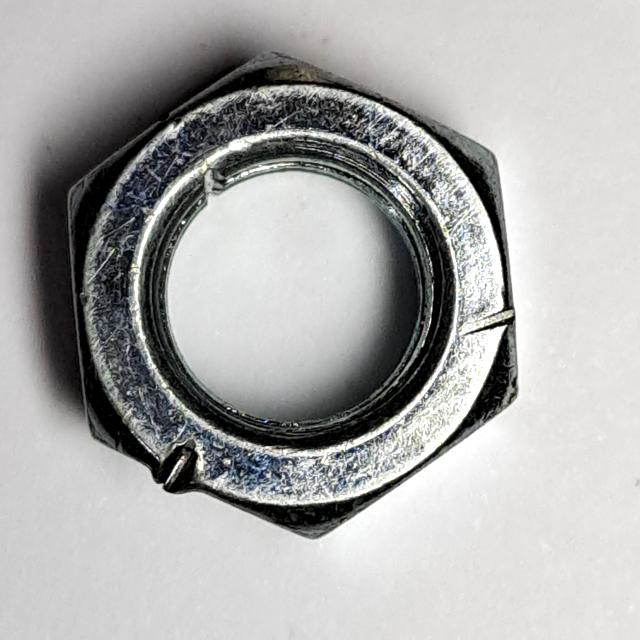Scratches: (51, 34, 533, 553)
